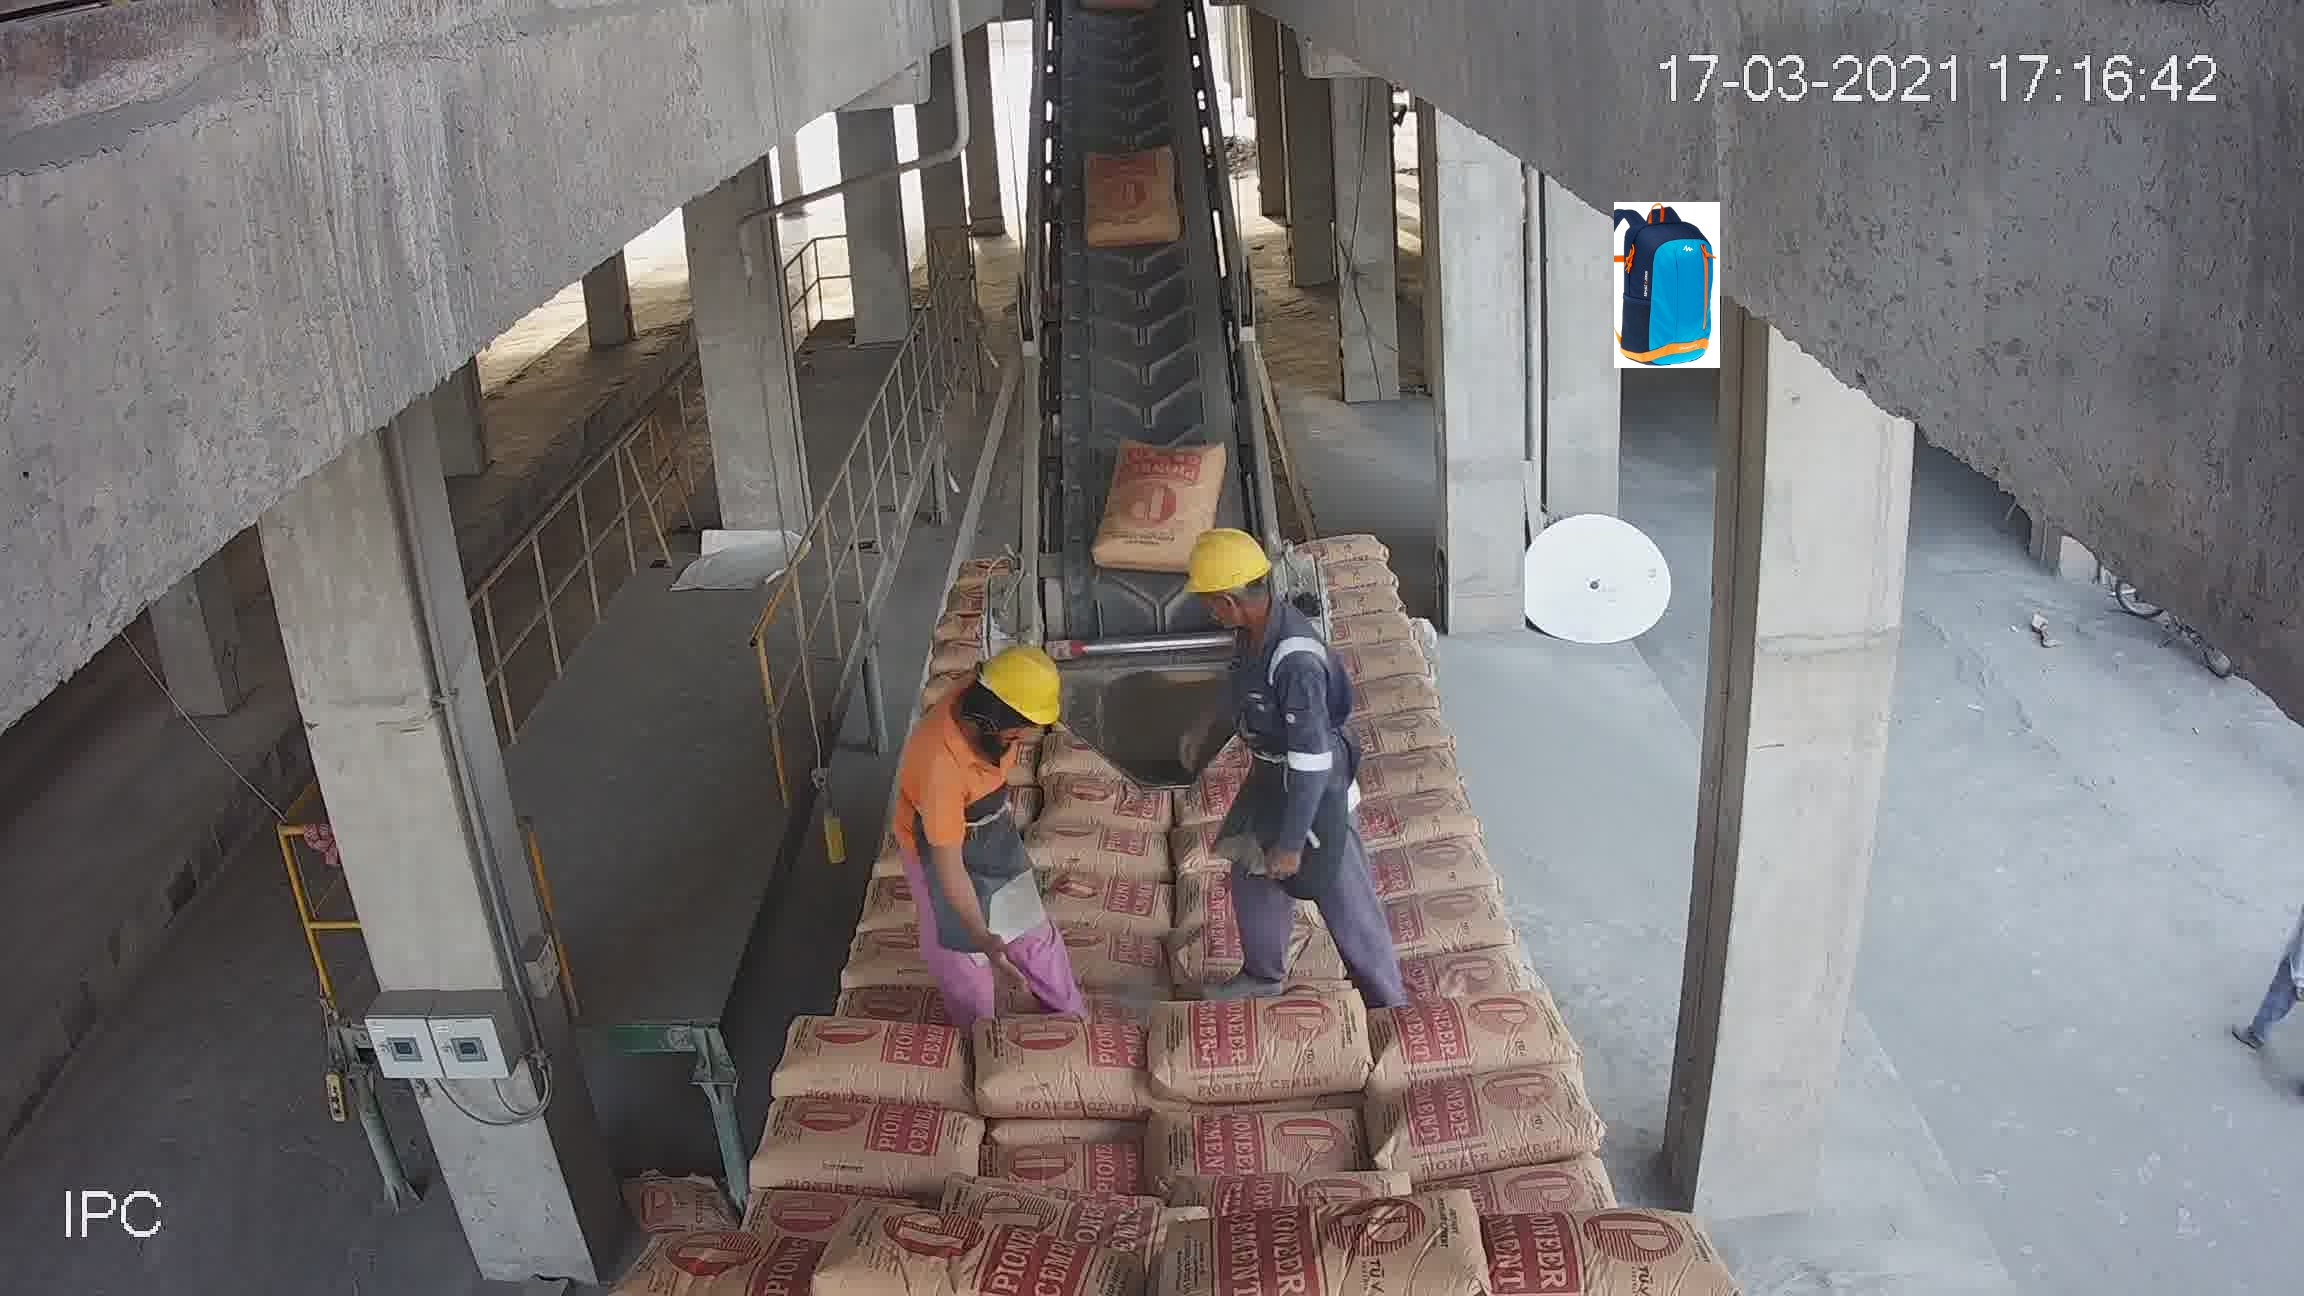bag: (1097, 448, 1222, 576), (1073, 155, 1190, 252)
bag_h: (1179, 1184, 1503, 1296), (786, 1215, 1127, 1296), (1144, 978, 1359, 1105), (1442, 1203, 1709, 1296), (1378, 1079, 1589, 1193), (747, 1100, 994, 1196), (968, 1008, 1154, 1130), (1355, 999, 1582, 1095), (1152, 1105, 1378, 1199), (769, 1022, 975, 1106), (1372, 880, 1540, 975), (635, 1226, 843, 1293), (1380, 956, 1548, 1029), (1377, 836, 1518, 907), (1040, 862, 1176, 935), (992, 1143, 1158, 1199), (1016, 818, 1169, 873), (1370, 791, 1499, 856), (1364, 737, 1465, 805), (1353, 665, 1446, 728), (1358, 709, 1459, 764), (1307, 555, 1408, 597), (1291, 532, 1400, 570)
belt: (1022, 35, 1290, 726)
